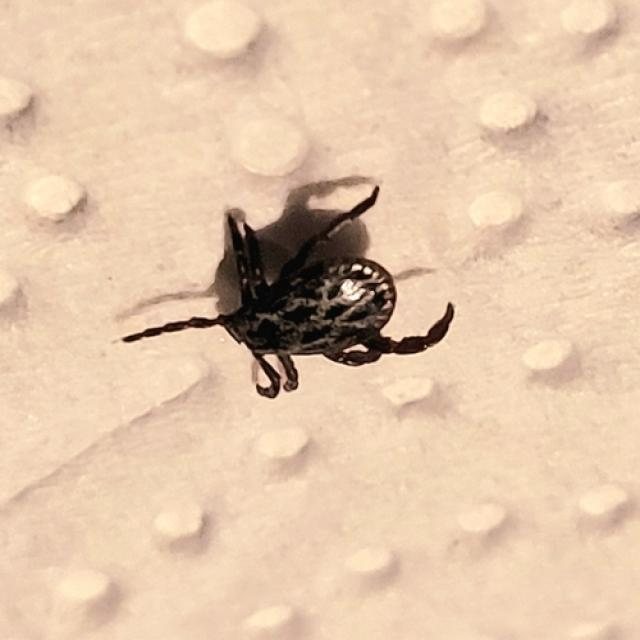Dermacentor Reticulatus-M: (124, 192, 454, 398)
